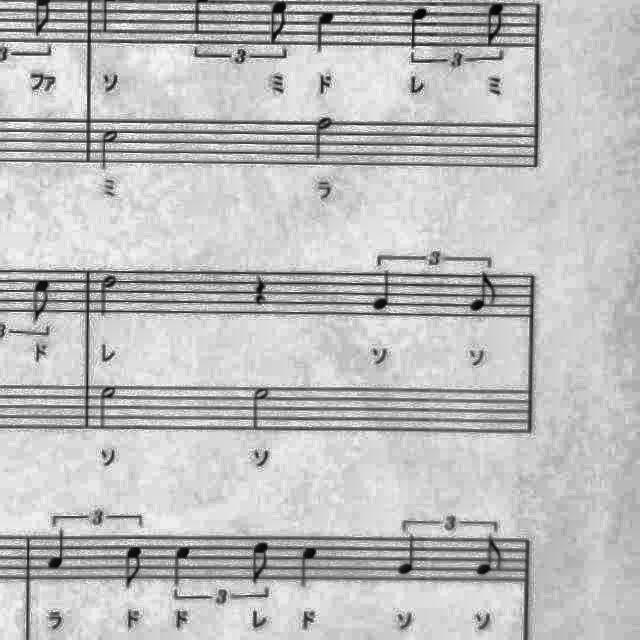Eighth-note: (464, 268, 504, 316), (471, 532, 509, 582), (27, 274, 57, 328), (480, 1, 512, 51), (263, 0, 296, 48), (122, 540, 150, 596), (245, 536, 275, 588)
Half-note: (310, 110, 338, 166), (246, 382, 274, 436), (94, 380, 122, 432), (96, 123, 124, 173), (95, 270, 123, 318)
Quarter-note: (310, 7, 342, 61), (367, 265, 399, 315), (404, 3, 436, 53), (294, 542, 324, 594), (168, 540, 196, 592), (392, 532, 422, 580), (44, 526, 72, 574)
Quarter-rest: (249, 268, 277, 310)
